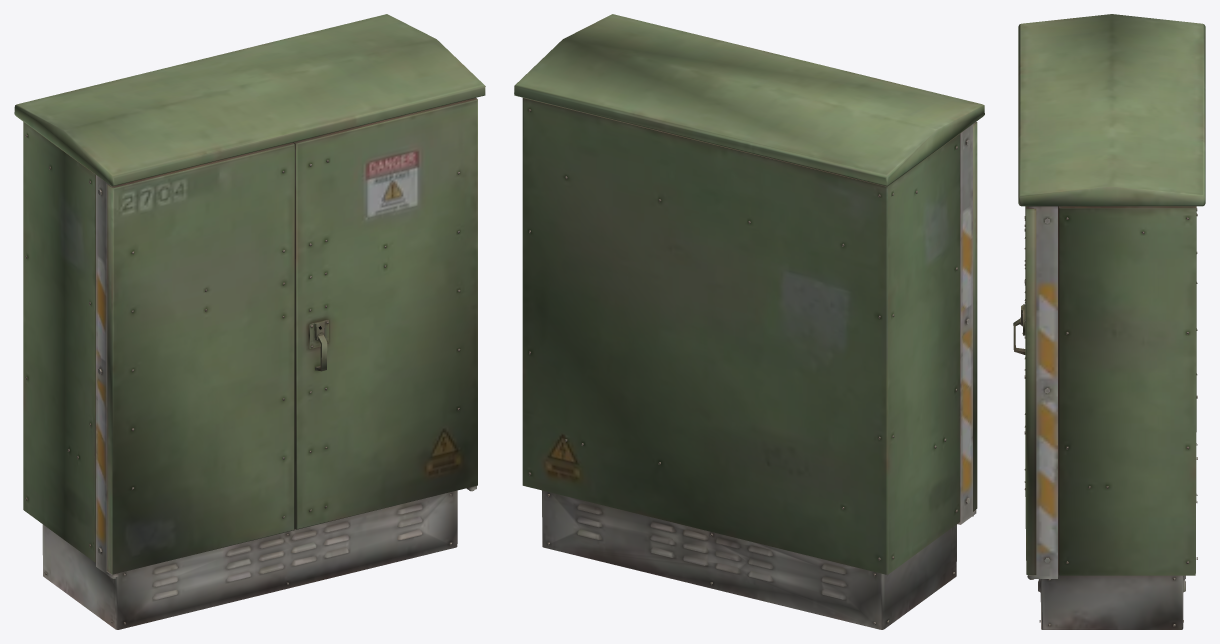
File: utility_box_02.glb
The picture shows the model from 3 angles, left to right: view 1: azimuth 30°, elevation 25°; view 2: azimuth 150°, elevation 25°; view 3: azimuth 270°, elevation 25°; orthographic projection. The views are drawn at different scales.
Parts seen in each view (by area): view 1: utility_box_02; view 2: utility_box_02; view 3: utility_box_02.
Boxes of the visible parts, x1,y1,x2,y2 form: utility_box_02: [14, 14, 485, 629]; utility_box_02: [514, 14, 984, 629]; utility_box_02: [1013, 14, 1205, 629].
Size of the model in its own units: 0.92 by 1.12 by 0.4311.
1 material, 1 textured.
